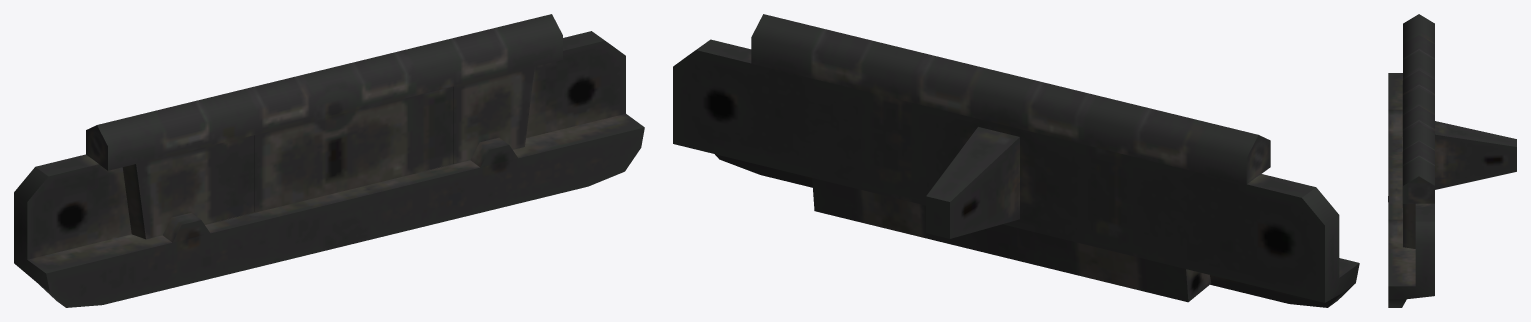
The picture shows the model from 3 angles, left to right: view 1: azimuth 30°, elevation 25°; view 2: azimuth 150°, elevation 25°; view 3: azimuth 270°, elevation 25°; orthographic projection. The views are drawn at different scales.
Visible parts, largest first — view 1: set_0_group_0; view 2: set_0_group_0; view 3: set_0_group_0.
Boxes of the visible parts, box(x1,y1,x2,y2) form: set_0_group_0: box(14, 14, 644, 307); set_0_group_0: box(673, 14, 1359, 307); set_0_group_0: box(1388, 14, 1516, 307).
Bounding box in the file's own units: 0.6507 × 0.1673 × 0.1659.
Materials: 1 (1 with a texture image).
